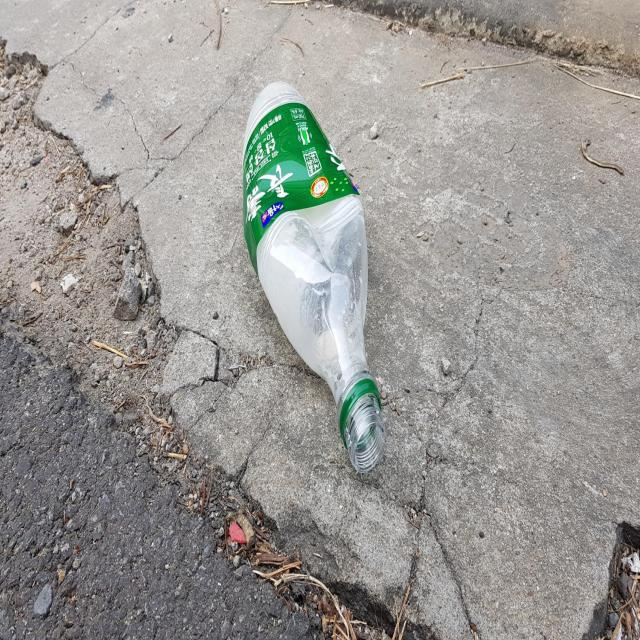plastic: (243, 79, 386, 472)
